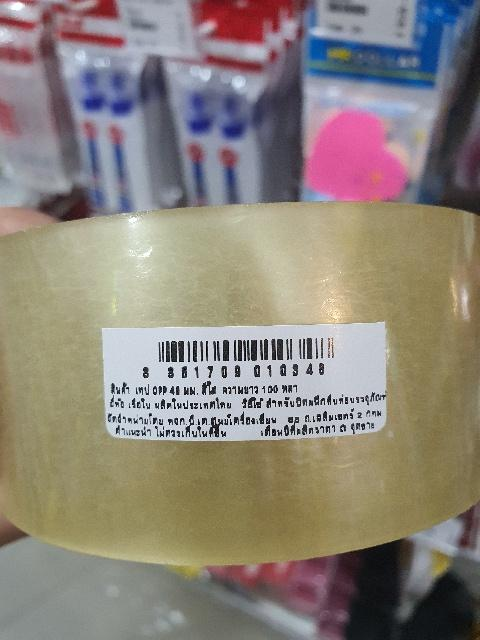Barcode: (140, 332, 345, 377)
